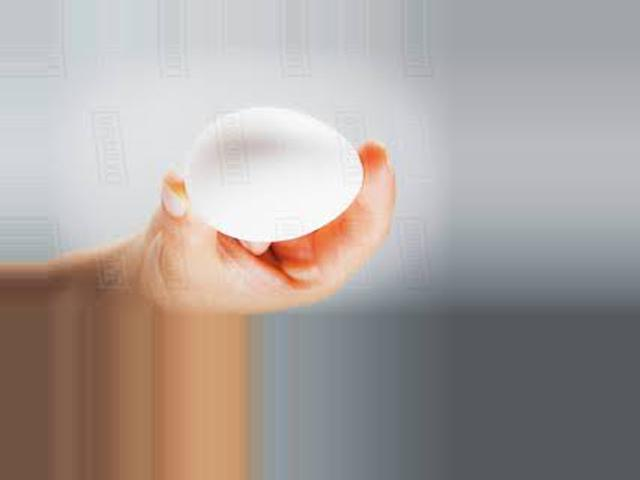egg: (187, 107, 362, 241)
